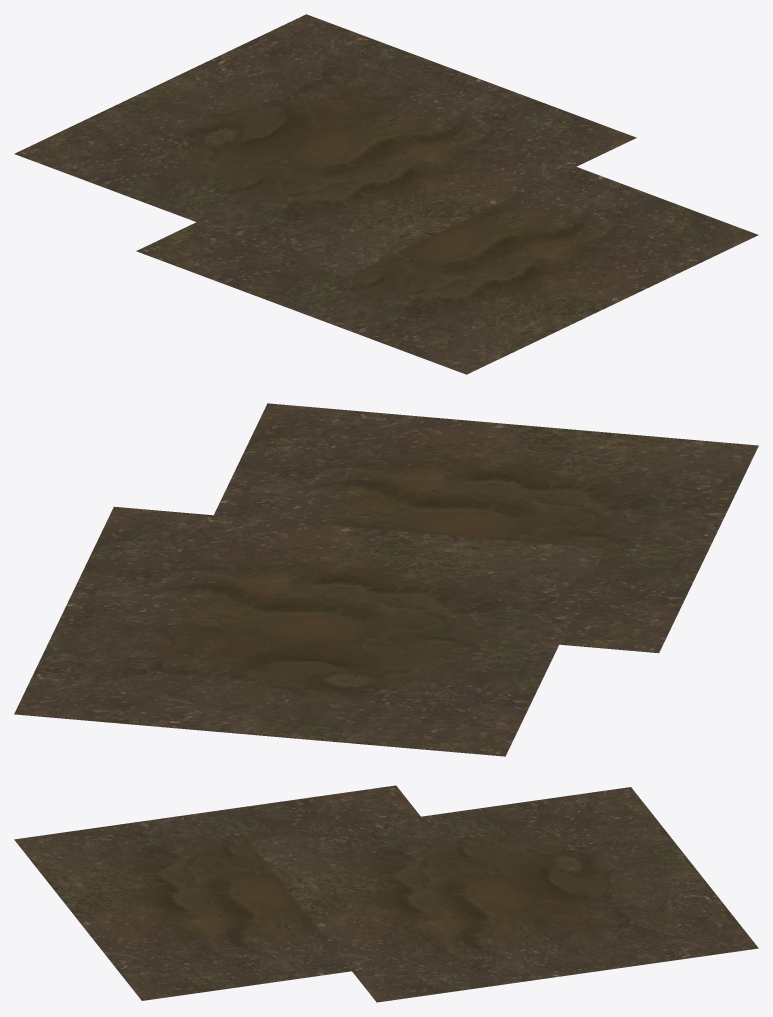
File: dirt_blends03.fbx
3 views of the same model, one above another, from view 1: azimuth 30°, elevation 25°; view 2: azimuth 150°, elevation 25°; view 3: azimuth 270°, elevation 25° (orthographic). The views are drawn at different scales.
Parts seen in each view (by area): view 1: dirt_blend_shadow; view 2: dirt_blend_shadow; view 3: dirt_blend_shadow.
Part boxes in pixels (bbox=[...]): dirt_blend_shadow: bbox=[14, 14, 758, 374]; dirt_blend_shadow: bbox=[14, 403, 758, 756]; dirt_blend_shadow: bbox=[14, 785, 758, 1002].
Bounding box in the file's own units: 11.43 × 0.0336 × 16.47.
